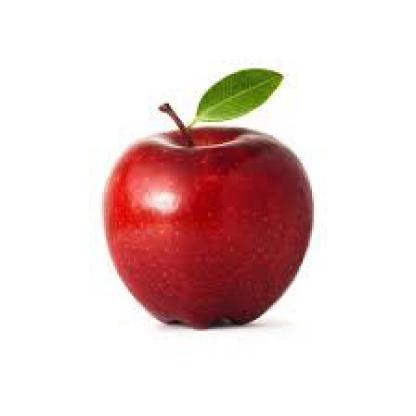Fresh: (82, 69, 319, 348)
